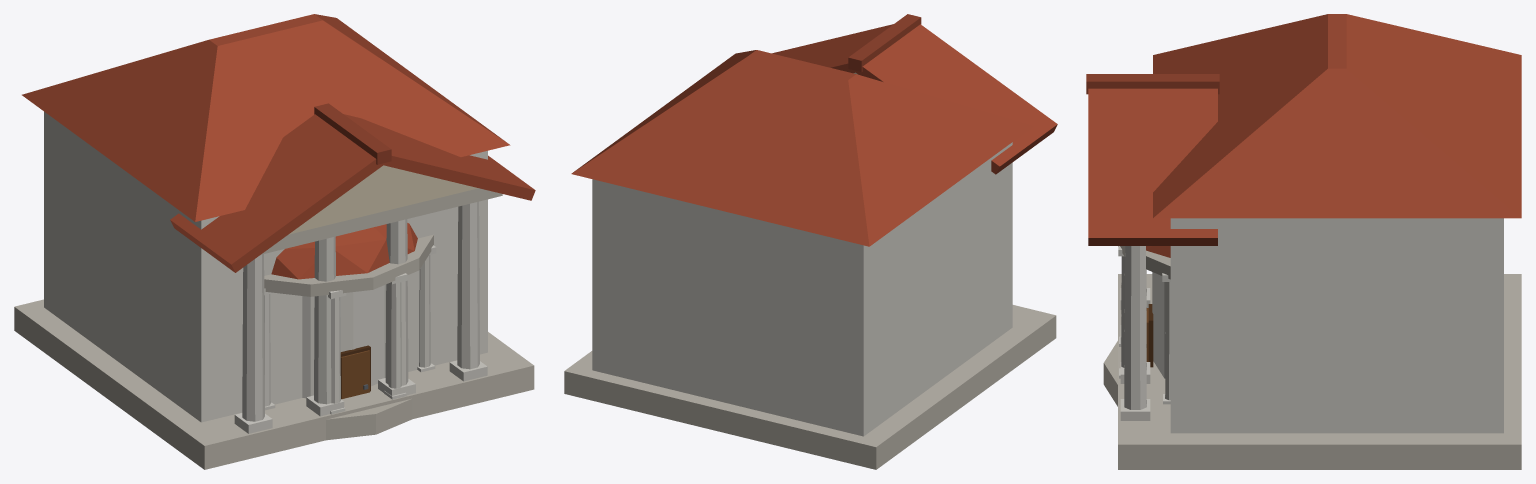
File: angel_hall.glb
3 views of the same model, side by side, from view 1: azimuth 30°, elevation 25°; view 2: azimuth 150°, elevation 25°; view 3: azimuth 270°, elevation 25° (orthographic). The views are drawn at different scales.
Parts seen in each view (by area): view 1: angel_hall; view 2: angel_hall; view 3: angel_hall.
Boxes of the visible parts, <box> form: angel_hall: <box>14,14,535,469</box>; angel_hall: <box>564,14,1057,469</box>; angel_hall: <box>1086,14,1521,469</box>.
Size of the model in its own units: 2.33 by 2.19 by 2.52.
